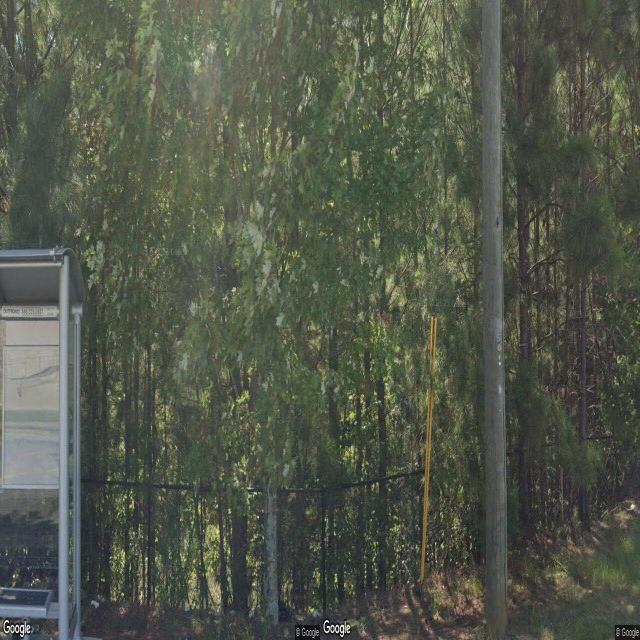seating: (0, 566, 58, 640)
shelter: (0, 242, 88, 640)
